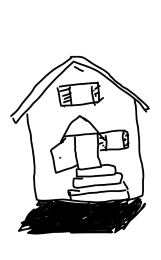door: (69, 115, 103, 212)
open_window: (53, 81, 108, 108), (100, 127, 131, 152)
roof: (1, 48, 161, 125)
shadow: (15, 197, 152, 240)
wall: (24, 92, 147, 206)
